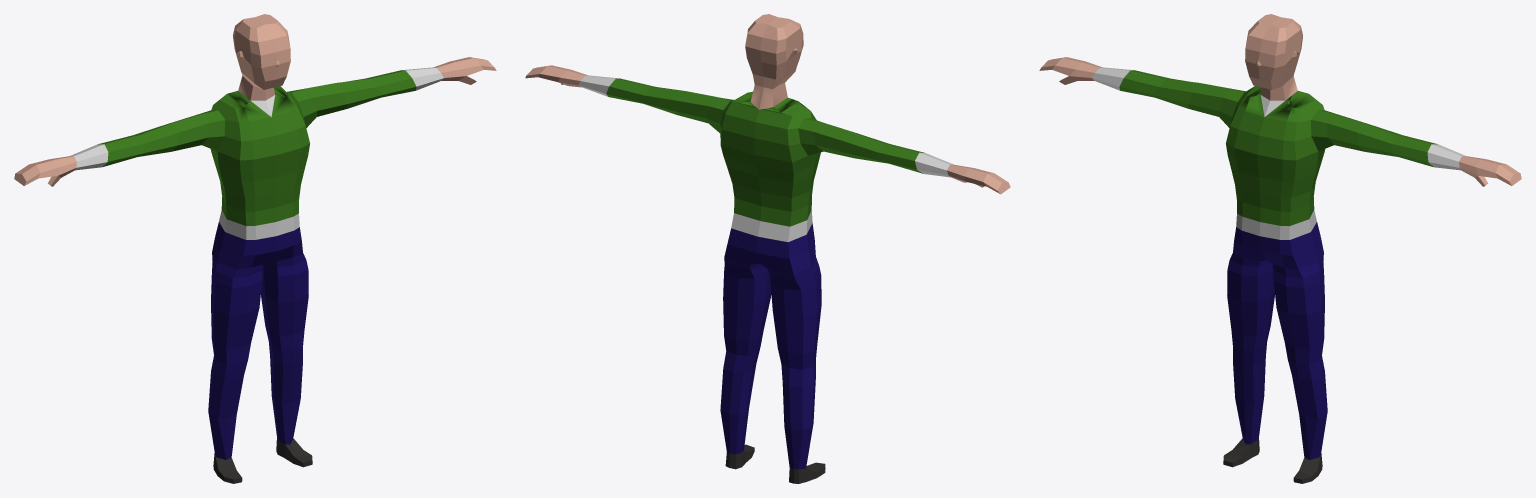
The model's file is Human.fbx.
3 renders of one model, left to right at view 1: azimuth 30°, elevation 25°; view 2: azimuth 150°, elevation 25°; view 3: azimuth 330°, elevation 25°, orthographic.
Visible parts, largest first — view 1: Cube.001; view 2: Cube.001; view 3: Cube.001.
Boxes of the visible parts, x1,y1,x2,y2 form: Cube.001: [14, 14, 496, 483]; Cube.001: [525, 14, 1010, 483]; Cube.001: [1039, 14, 1521, 483].
Size of the model in its own units: 1709 by 1538 by 230.
